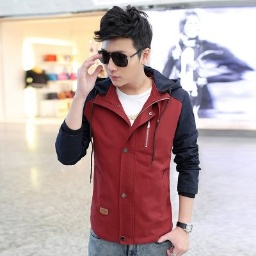face: (96, 5, 153, 81)
